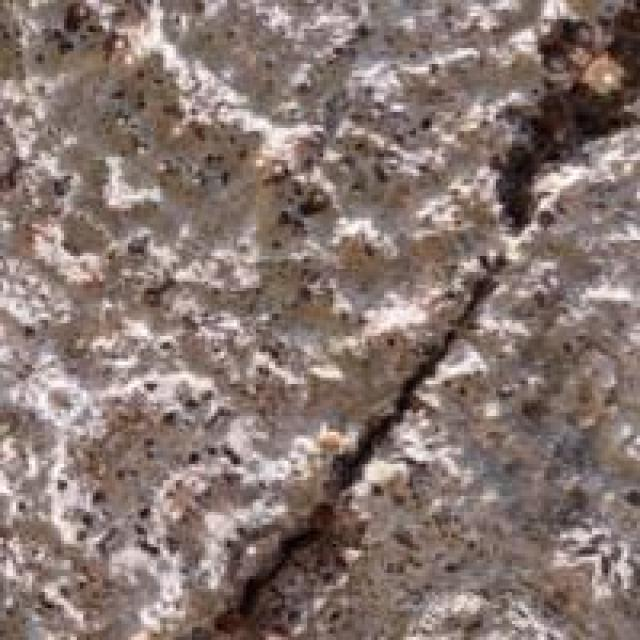Crack: (157, 13, 637, 637)
